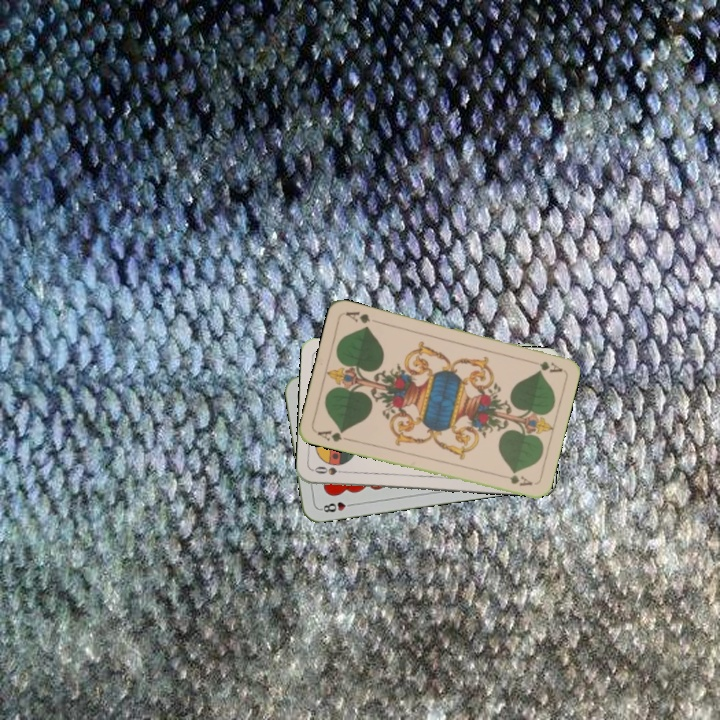GA: (525, 356, 565, 375), (313, 426, 353, 444)
H8: (316, 498, 357, 515)
SO: (311, 462, 351, 477)
